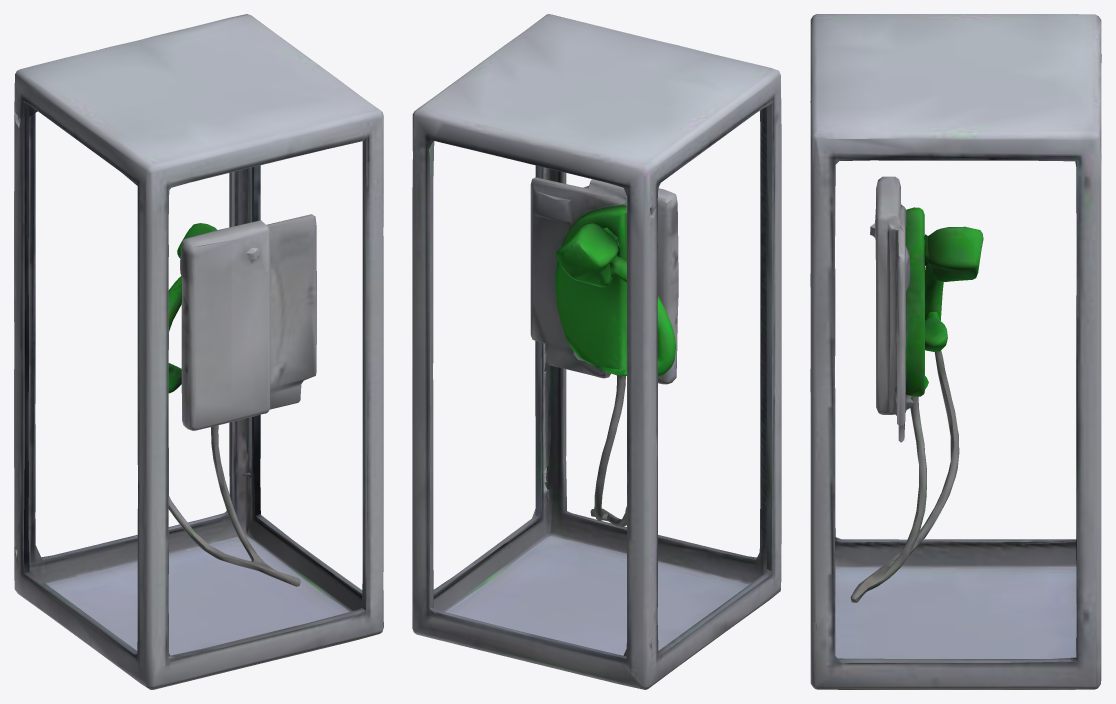
File: phonebooth.glb
The picture shows the model from 3 angles, left to right: view 1: azimuth 30°, elevation 25°; view 2: azimuth 150°, elevation 25°; view 3: azimuth 270°, elevation 25°; orthographic projection. The views are drawn at different scales.
Visible parts, largest first — view 1: phonebooth; view 2: phonebooth; view 3: phonebooth.
Boxes of the visible parts, x1,y1,x2,y2 form: phonebooth: [14, 14, 383, 689]; phonebooth: [412, 14, 781, 689]; phonebooth: [810, 14, 1101, 689].
Bounding box in the file's own units: 1.09 × 2.3 × 1.09.
Materials: 1 (1 with a texture image).
